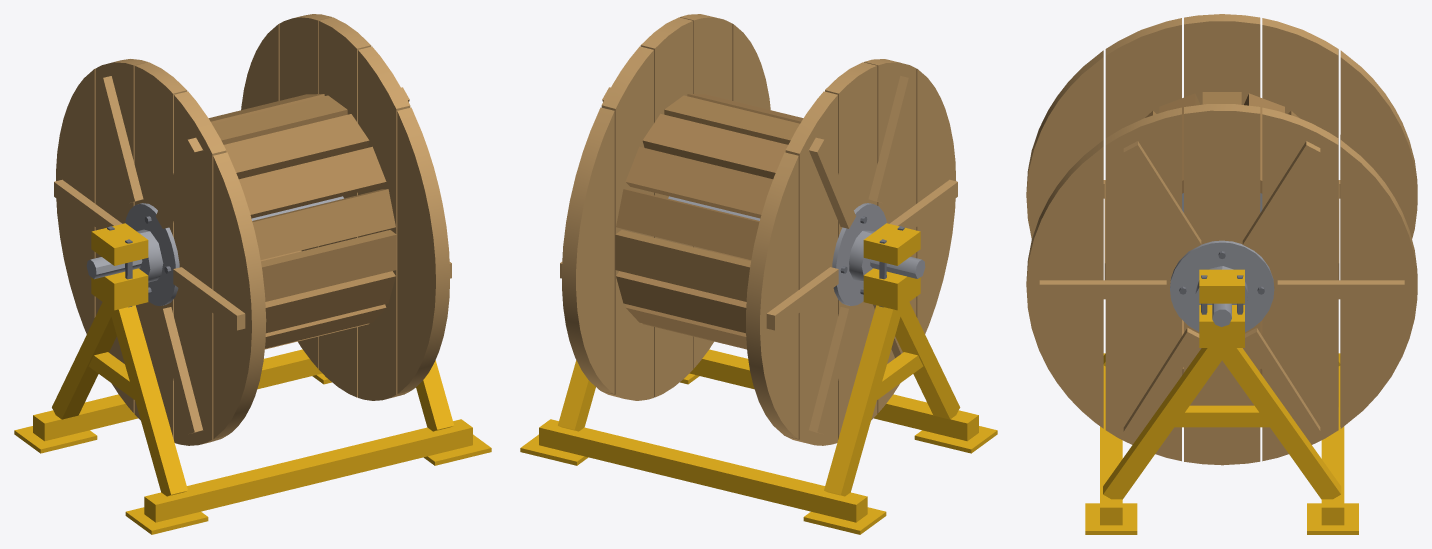
File: cablereel.glb
The picture shows the model from 3 angles, left to right: view 1: azimuth 30°, elevation 25°; view 2: azimuth 150°, elevation 25°; view 3: azimuth 270°, elevation 25°; orthographic projection.
Parts seen in each view (by area): view 1: drum, jack_stand; view 2: drum, jack_stand; view 3: drum, jack_stand.
Boxes of the visible parts, bbox=[...] form: drum: bbox=[54, 14, 451, 445]; jack_stand: bbox=[14, 223, 491, 534]; drum: bbox=[560, 14, 957, 445]; jack_stand: bbox=[520, 223, 997, 534]; drum: bbox=[1026, 14, 1417, 465]; jack_stand: bbox=[1085, 266, 1358, 534].
Bounding box in the file's own units: 1.2 × 1.32 × 1.2.
